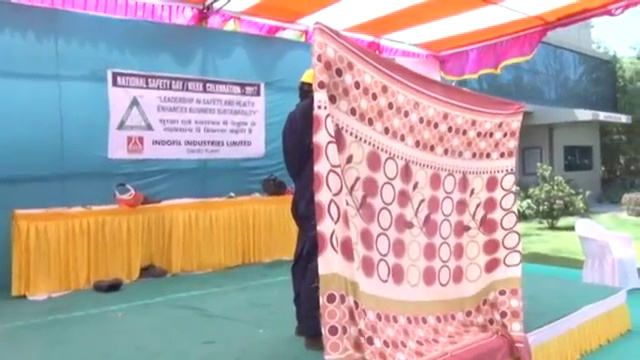person: (281, 69, 327, 353)
